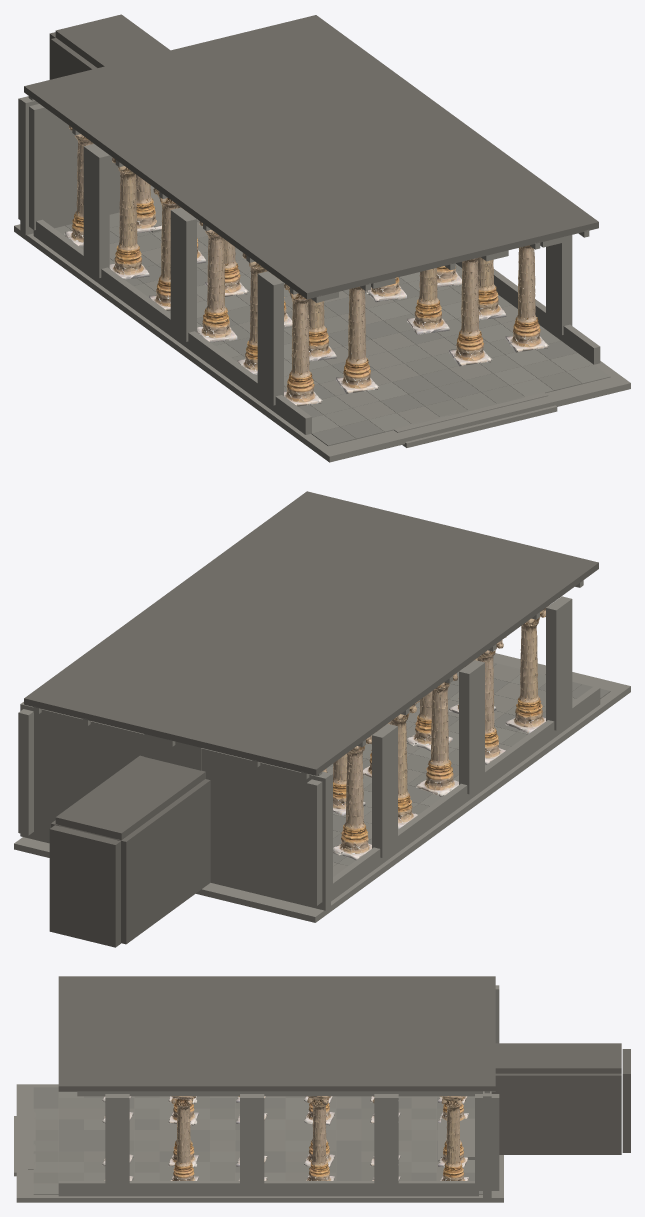
File: templo.gltf
The picture shows the model from 3 angles, top to bottom: view 1: azimuth 30°, elevation 25°; view 2: azimuth 150°, elevation 25°; view 3: azimuth 270°, elevation 25°; orthographic projection. The views are drawn at different scales.
Parts seen in each view (by area): view 1: Plafond massif, Soubassement continu, Muret latéral, Mur de fond, Plafond du passage profond, Pilastre latéral, Pilastre latéral.001, Pilastre latéral.002, Pilastre latéral.004, COLONNADE | Rang 1 · Travée 5, COLONNADE | Rang 1 · Travée 3, COLONNADE | Rang 1 · Travée 1 (+16 smaller); view 2: Plafond massif, Mur de fond, Paroi du passage en profondeur, Mur de fond.001, Fond du passage profond, Plafond du passage profond, Soubassement continu, Muret latéral, Pilastre latéral, Pilastre latéral.001, Pilastre latéral.002, COLONNADE | Rang 1 · Travée 1 (+9 smaller); view 3: Plafond massif, Paroi du passage en profondeur.001, Muret latéral.001, Soubassement continu, Plafond du passage profond, Pilastre latéral.004, Pilastre latéral.005, Pilastre latéral.006, Architrave | Ligne 6.0, Pilastre latéral.007, COLONNADE | Rang 4 · Travée 2, COLONNADE | Rang 4 · Travée 4 (+6 smaller).
Part boxes in pixels (x1,y1,x2,y2): Plafond massif: (24, 15, 598, 299); Soubassement continu: (14, 224, 630, 462); Muret latéral: (33, 219, 311, 434); Mur de fond: (20, 97, 126, 235); Plafond du passage profond: (55, 14, 170, 67); Pilastre latéral: (257, 271, 283, 405); Pilastre latéral.001: (170, 207, 196, 341); Pilastre latéral.002: (83, 144, 109, 277); Pilastre latéral.004: (546, 235, 572, 334); COLONNADE | Rang 1 · Travée 5: (109, 157, 149, 279); COLONNADE | Rang 1 · Travée 3: (197, 221, 237, 342); COLONNADE | Rang 1 · Travée 1: (284, 283, 322, 406); Plafond massif: (24, 491, 598, 775); Mur de fond: (201, 748, 330, 910); Paroi du passage en profondeur: (117, 779, 210, 944); Mur de fond.001: (20, 702, 144, 843); Fond du passage profond: (49, 825, 120, 947); Plafond du passage profond: (55, 755, 205, 840); Soubassement continu: (14, 653, 630, 922); Muret latéral: (331, 686, 600, 901); Pilastre latéral: (546, 596, 572, 730); Pilastre latéral.001: (459, 660, 484, 794); Pilastre latéral.002: (372, 724, 397, 857); COLONNADE | Rang 1 · Travée 1: (505, 607, 546, 733); Plafond massif: (58, 976, 495, 1091); Paroi du passage en profondeur.001: (491, 1073, 621, 1154); Muret latéral.001: (58, 1181, 478, 1196); Soubassement continu: (16, 1084, 503, 1202); Plafond du passage profond: (495, 1043, 621, 1073); Pilastre latéral.004: (105, 1094, 129, 1190); Pilastre latéral.005: (240, 1094, 264, 1190); Pilastre latéral.006: (374, 1094, 398, 1190); Architrave | Ligne 6.0: (77, 1092, 482, 1096); Pilastre latéral.007: (475, 1094, 499, 1190); COLONNADE | Rang 4 · Travée 2: (170, 1096, 198, 1180); COLONNADE | Rang 4 · Travée 4: (306, 1096, 334, 1180).
Bounding box in the file's own units: 16.2 × 7.66 × 36.71.
8 materials, 1 textured.
